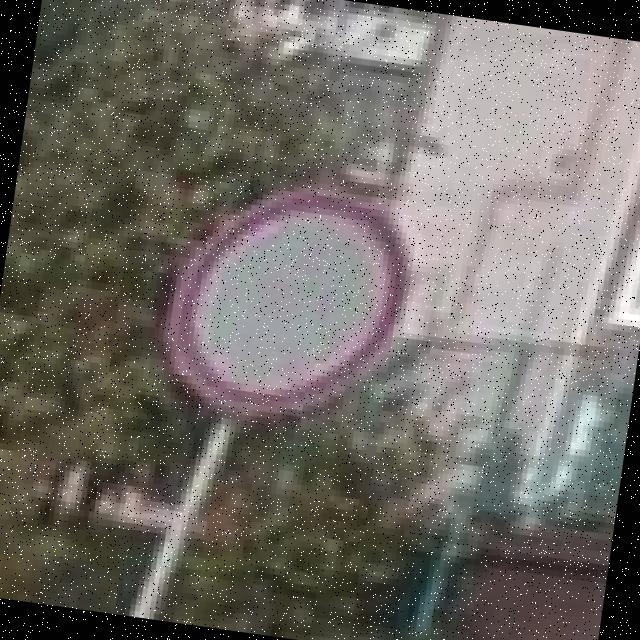Zakaz ruchu w obu kierunkach: (154, 170, 421, 436)
